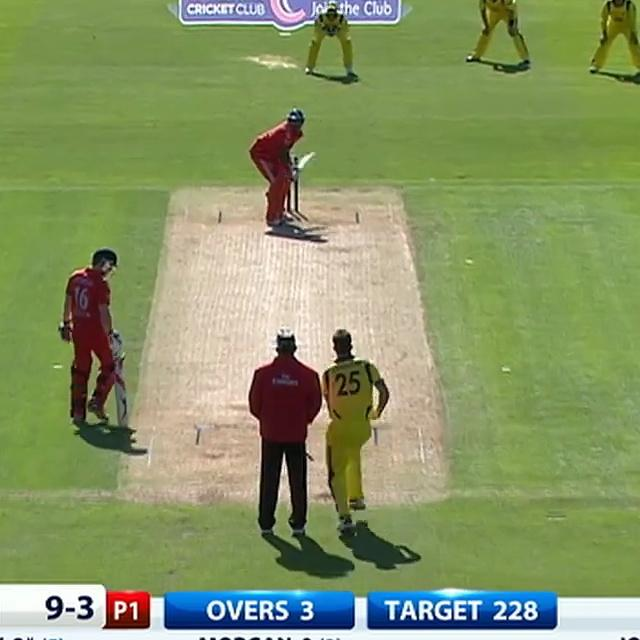umpire: (240, 321, 338, 551)
